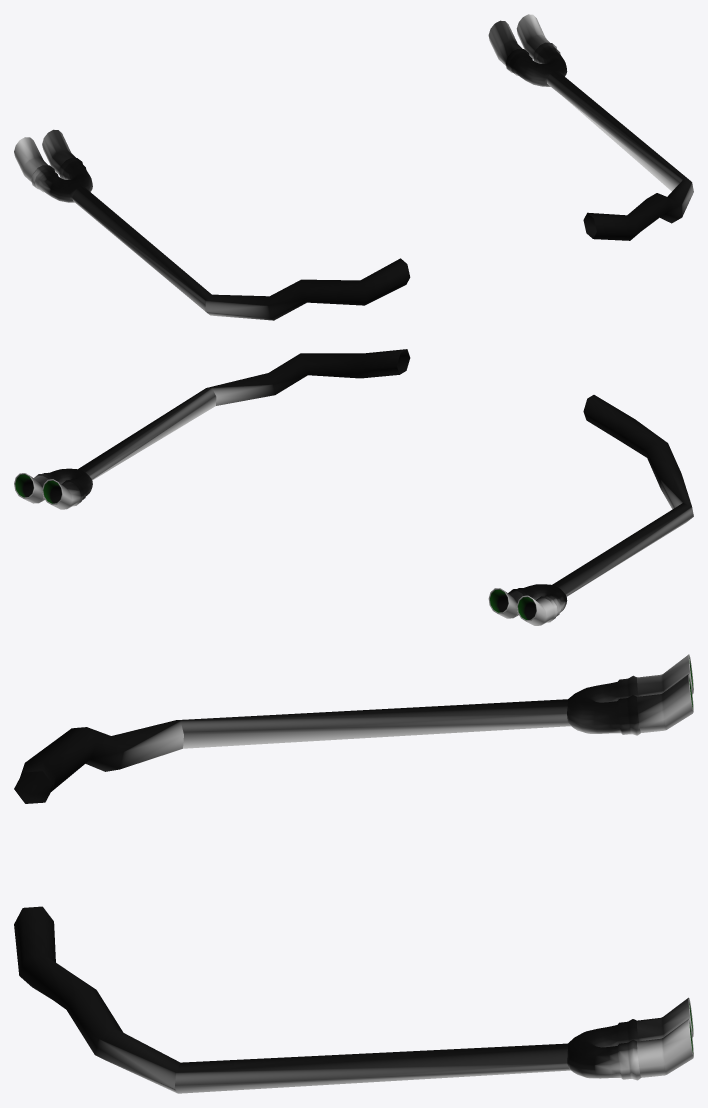
The model's file is Car_Buick_GrandNational_1987_Exhausts_SetFH.fbx.
The picture shows the model from 3 angles, top to bottom: view 1: azimuth 30°, elevation 25°; view 2: azimuth 150°, elevation 25°; view 3: azimuth 270°, elevation 25°; orthographic projection. The views are drawn at different scales.
Parts seen in each view (by area): view 1: Exhausts 6; view 2: Exhausts 6; view 3: Exhausts 6.
Part boxes in pixels (x1,y1,x2,y2): Exhausts 6: (14, 14, 693, 320); Exhausts 6: (14, 349, 693, 625); Exhausts 6: (14, 654, 693, 1093).
Bounding box in the file's own units: 1.47 × 0.151 × 1.11.
